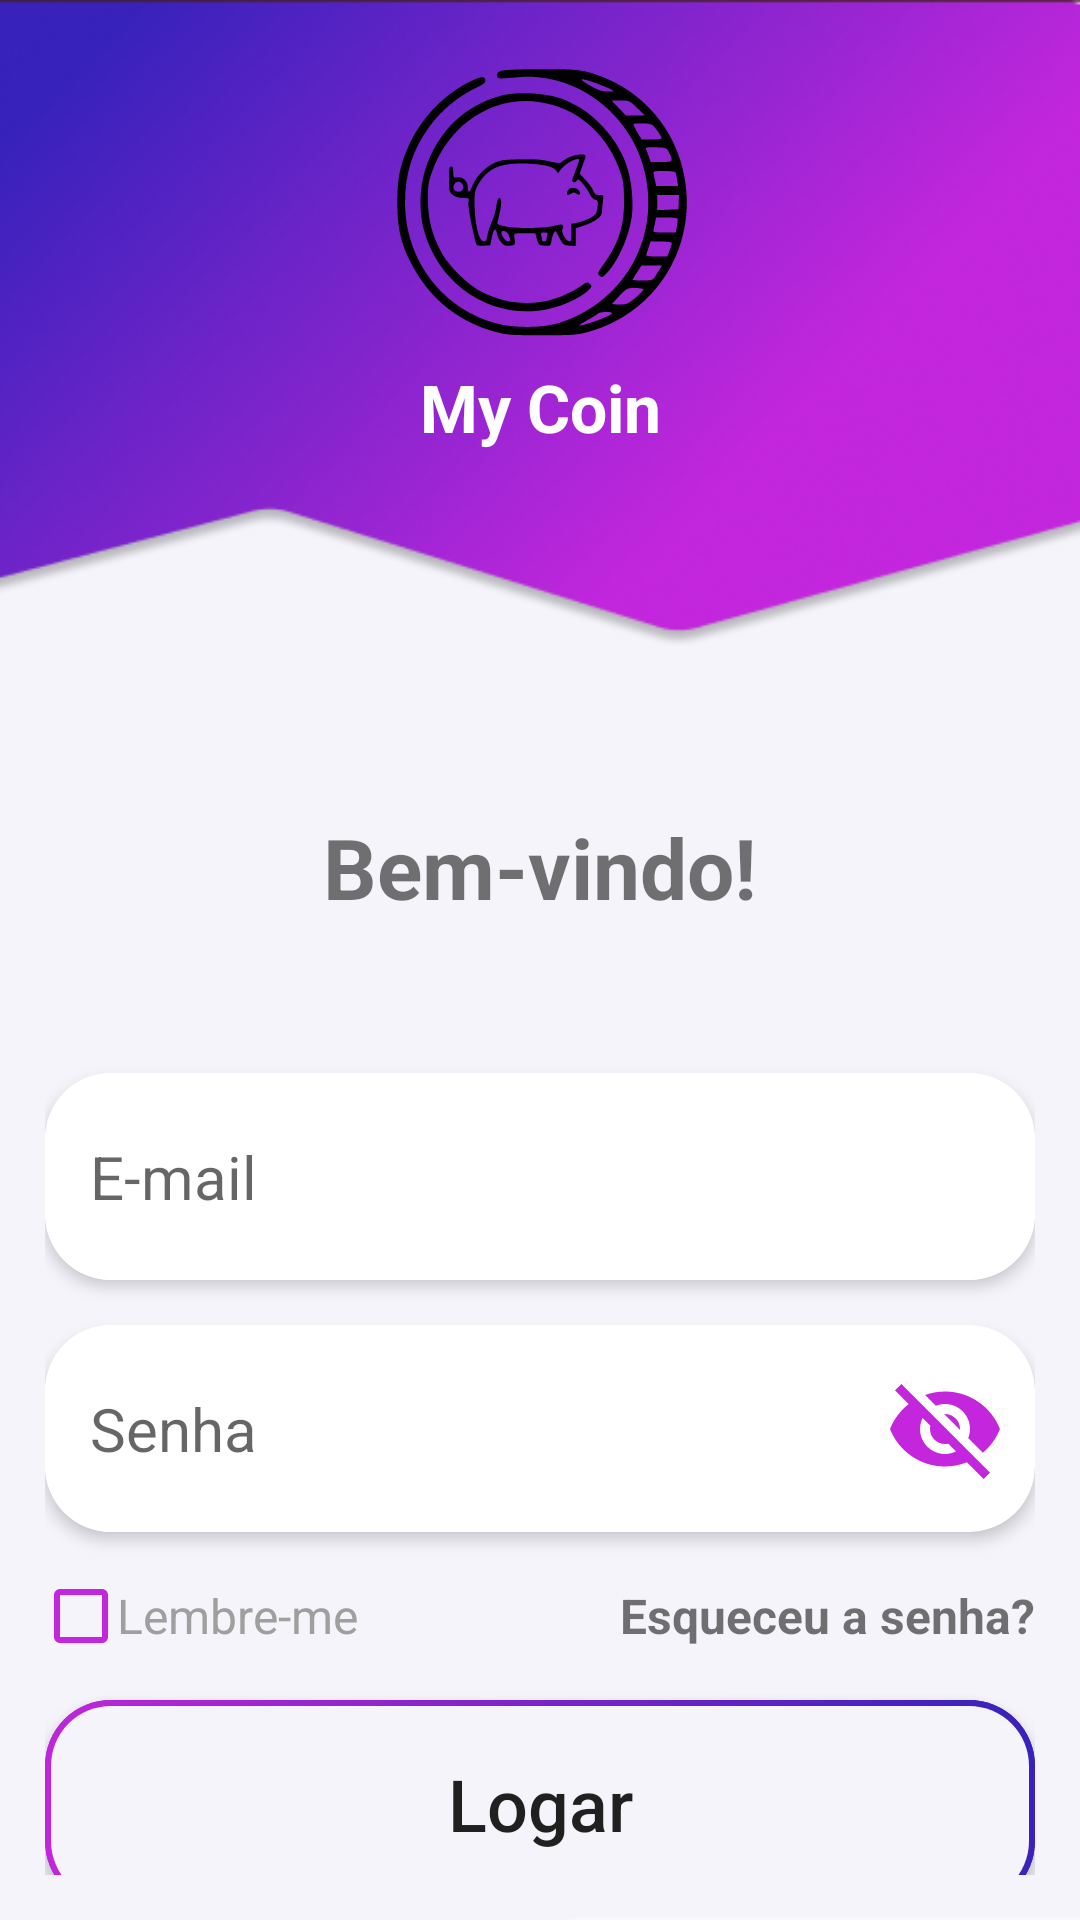

Screen size 1080×1920. Icon name, then its center in pixels as (x=x, y=y):
eye slash: (x=945, y=1431)
